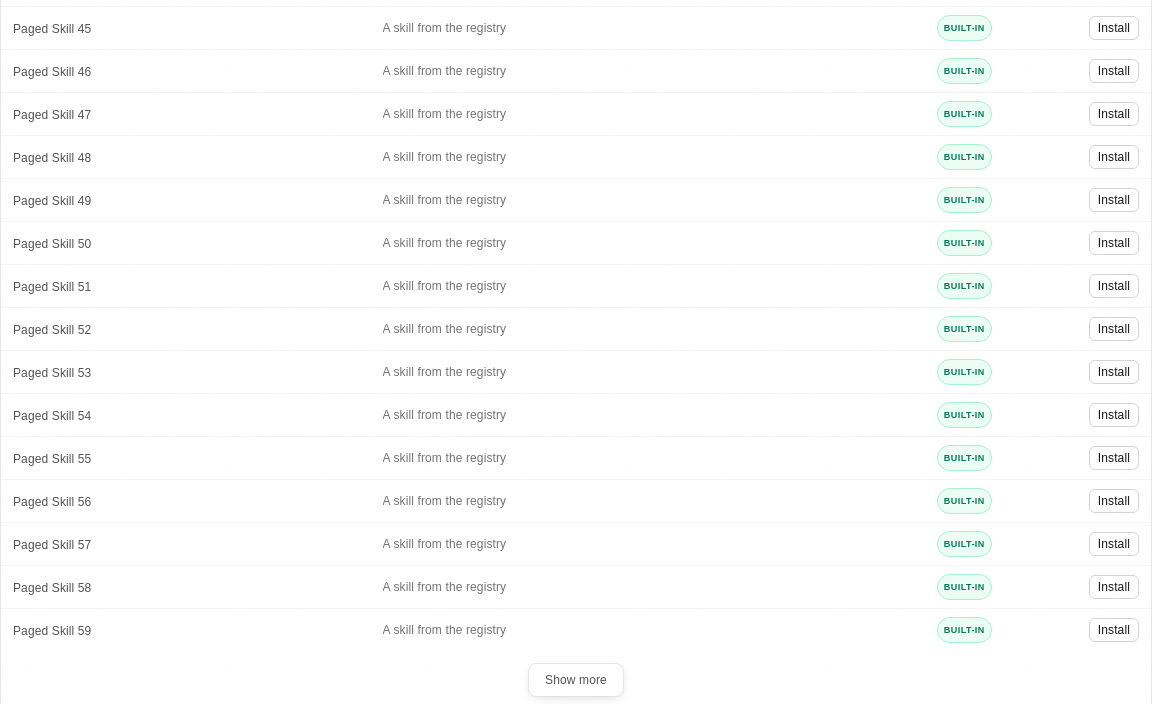
Scenario: SkillsExplorerTab › paginates the registry catalog via the Show more control
(page scrolled)
Click the button with test id "registry-show-more".
click(576, 680)  # box [528,663,624,697]
(page scrolled)
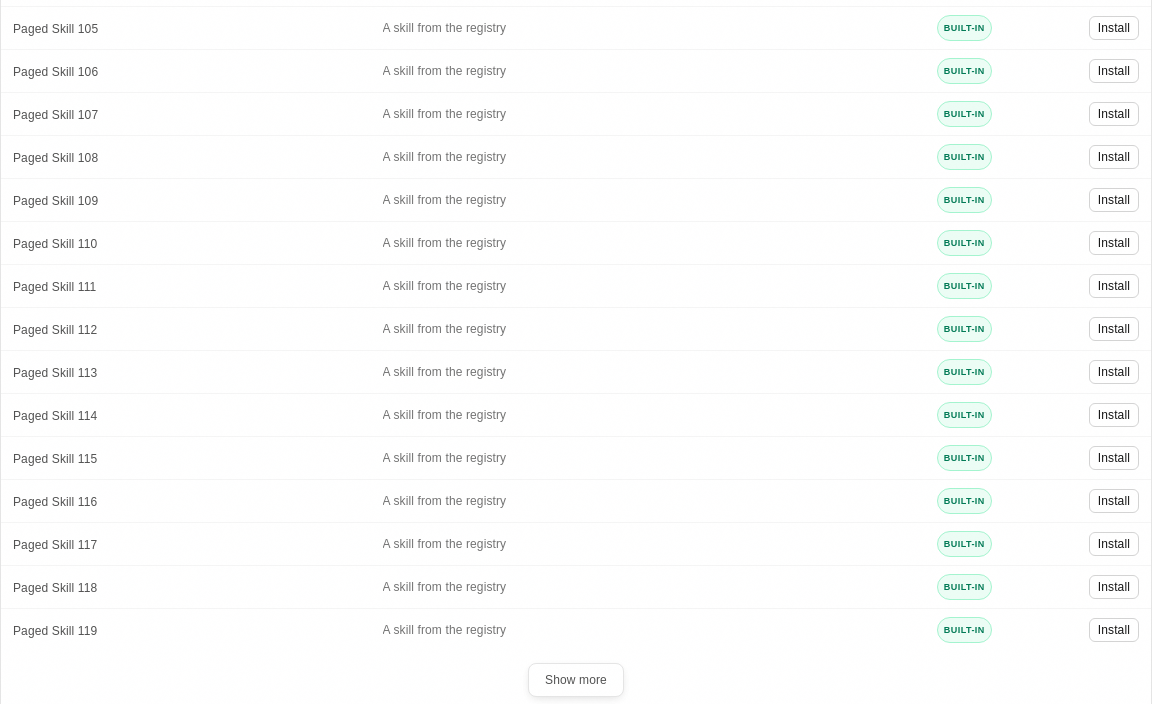
Click the button with test id "registry-show-more".
click(576, 680)  # box [528,663,624,697]
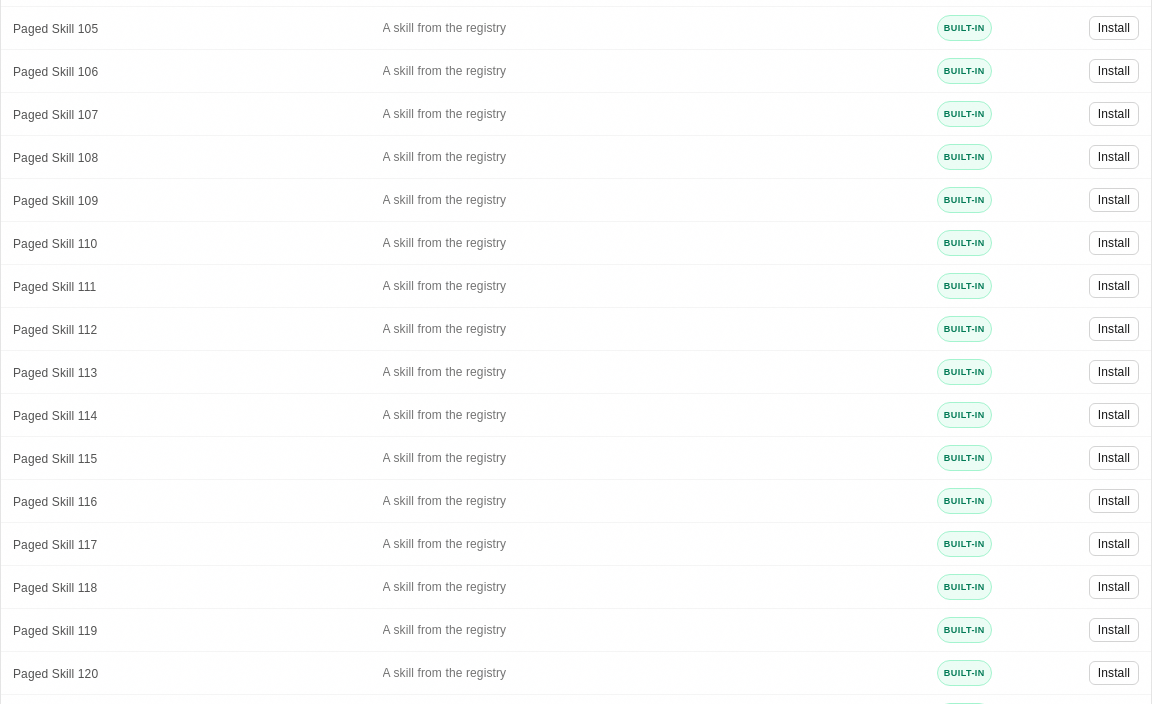
Result: the button with test id "registry-show-more" is gone
